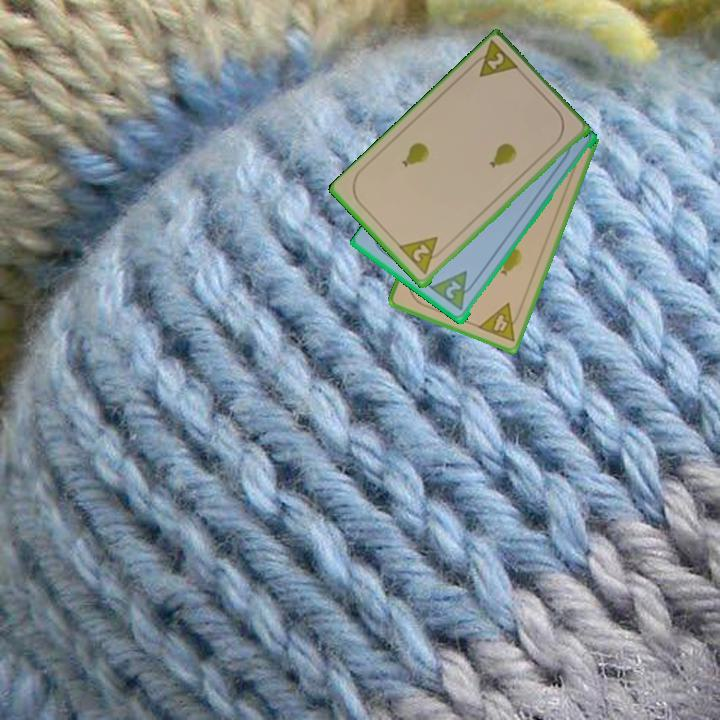2p: (466, 38, 523, 81), (396, 233, 448, 278), (442, 277, 464, 302)
4p: (474, 300, 525, 345)
